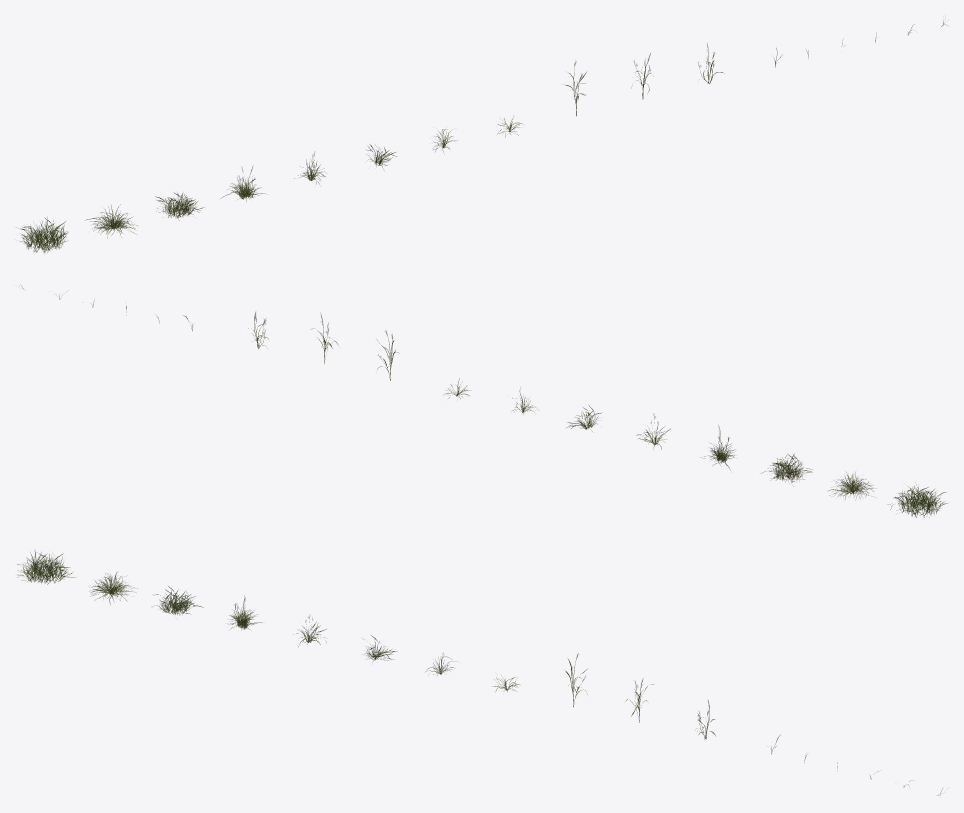
Rendered from grass_medium_01.gltf.
3 renders of one model, top to bottom at view 1: azimuth 30°, elevation 25°; view 2: azimuth 150°, elevation 25°; view 3: azimuth 330°, elevation 25°, orthographic.
Parts seen in each view (by area): view 1: grass_medium_01_large_a_LOD0, grass_medium_01_large_c_LOD0, grass_medium_01_large_b_LOD0; view 2: grass_medium_01_large_a_LOD0, grass_medium_01_large_c_LOD0, grass_medium_01_large_b_LOD0; view 3: grass_medium_01_large_a_LOD0, grass_medium_01_large_c_LOD0, grass_medium_01_large_b_LOD0.
Boxes of the visible parts, <box> form: grass_medium_01_large_a_LOD0: <box>16,217,68,253</box>; grass_medium_01_large_c_LOD0: <box>155,192,204,220</box>; grass_medium_01_large_b_LOD0: <box>85,204,137,238</box>; grass_medium_01_large_a_LOD0: <box>888,482,947,517</box>; grass_medium_01_large_c_LOD0: <box>761,454,812,486</box>; grass_medium_01_large_b_LOD0: <box>828,472,875,499</box>; grass_medium_01_large_a_LOD0: <box>17,550,75,584</box>; grass_medium_01_large_c_LOD0: <box>152,586,203,615</box>; grass_medium_01_large_b_LOD0: <box>89,571,137,604</box>.
Bounding box in the file's own units: 5.6 × 0.3426 × 0.3266.
1 material, 1 textured.
